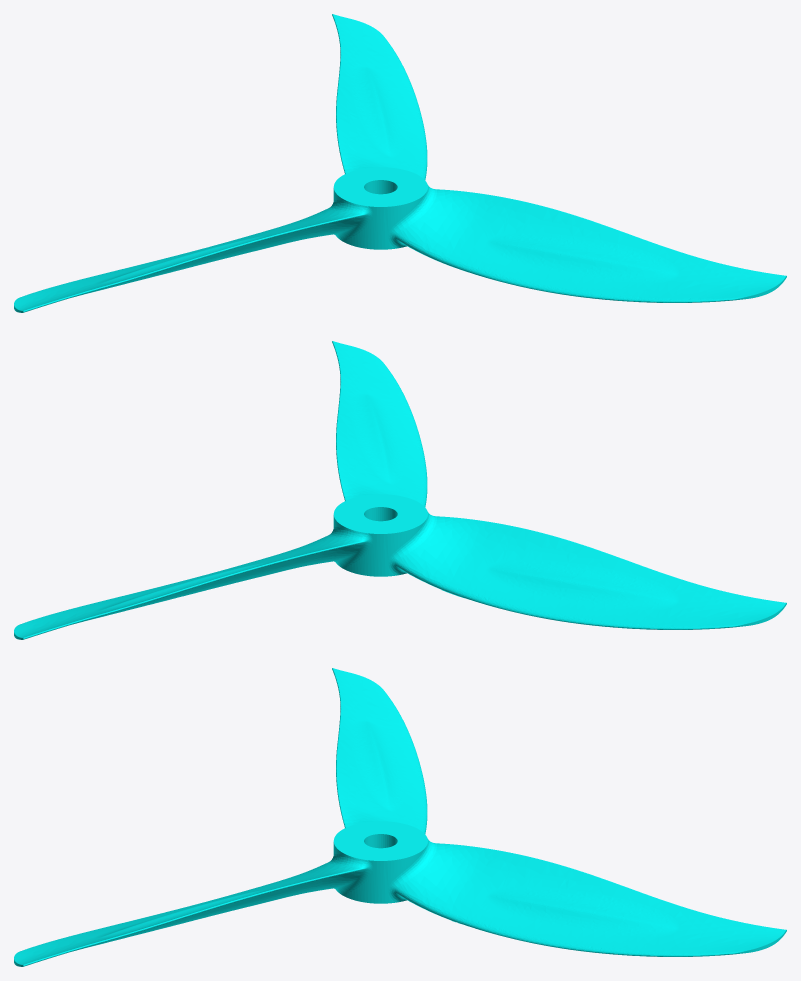
File: prop-5040-tri_CCW.glb
3 renders of one model, top to bottom at view 1: azimuth 30°, elevation 25°; view 2: azimuth 150°, elevation 25°; view 3: azimuth 270°, elevation 25°, orthographic.
Visible parts, largest first — view 1: Component2; view 2: Component2; view 3: Component2.
Boxes of the visible parts, bbox=[...] form: Component2: bbox=[14, 14, 786, 312]; Component2: bbox=[14, 341, 786, 639]; Component2: bbox=[14, 668, 786, 966].
Bounding box in the file's own units: 0.1045 × 0.00733 × 0.1149.
